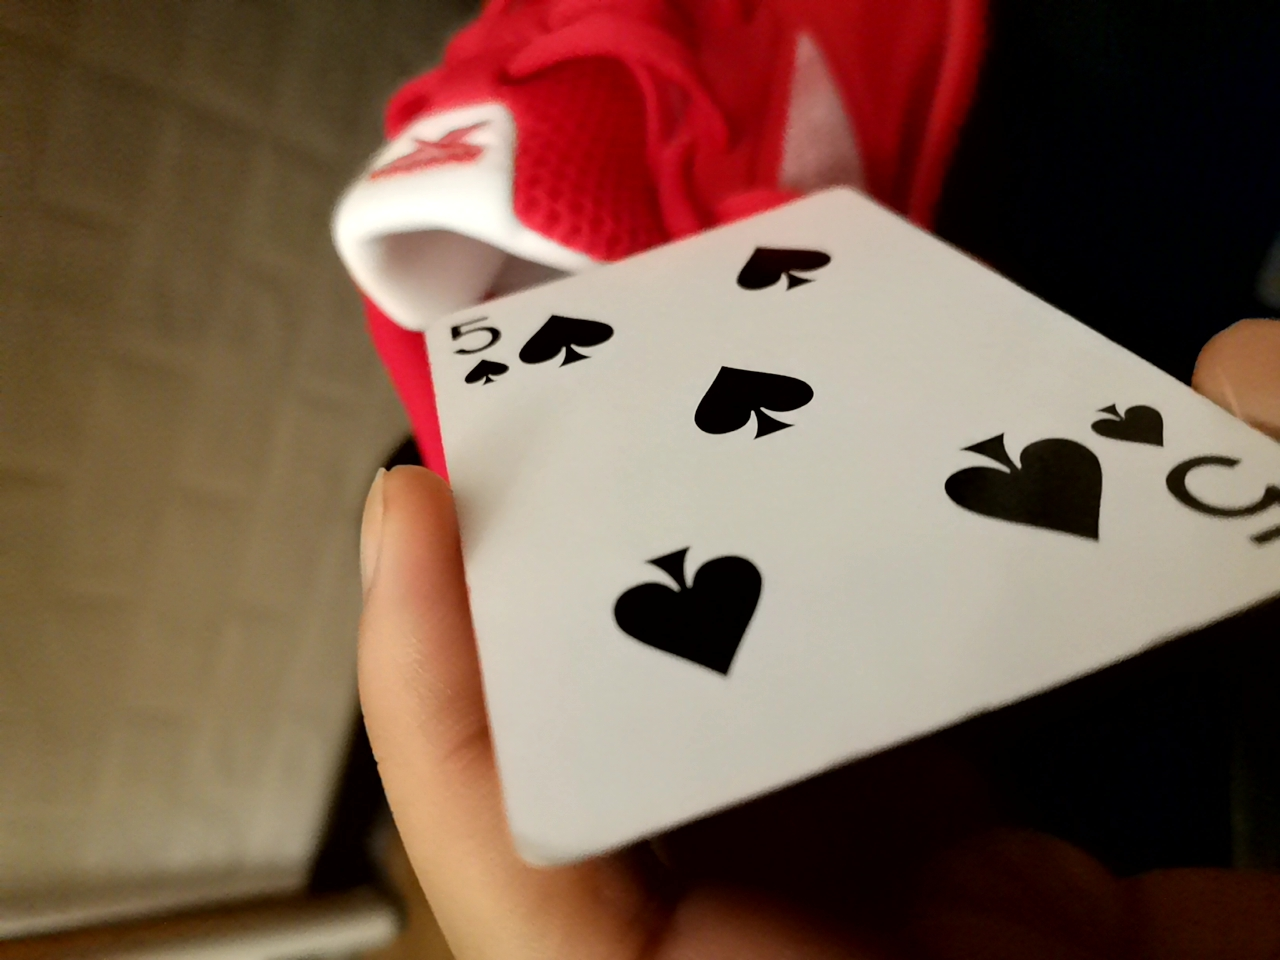ht 5: (418, 170, 1266, 871)
